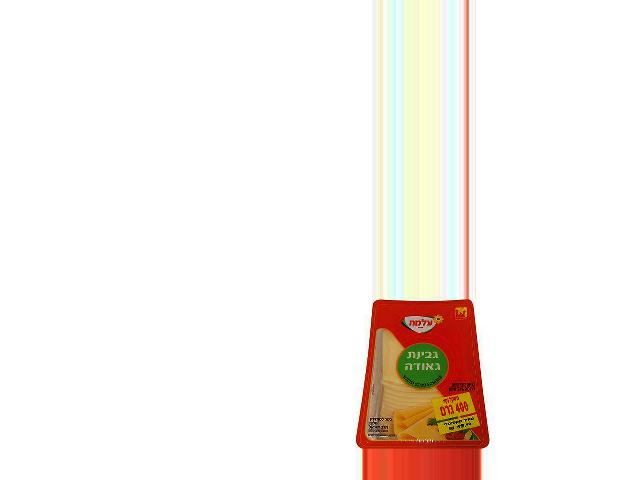cheese: (356, 300, 489, 449)
